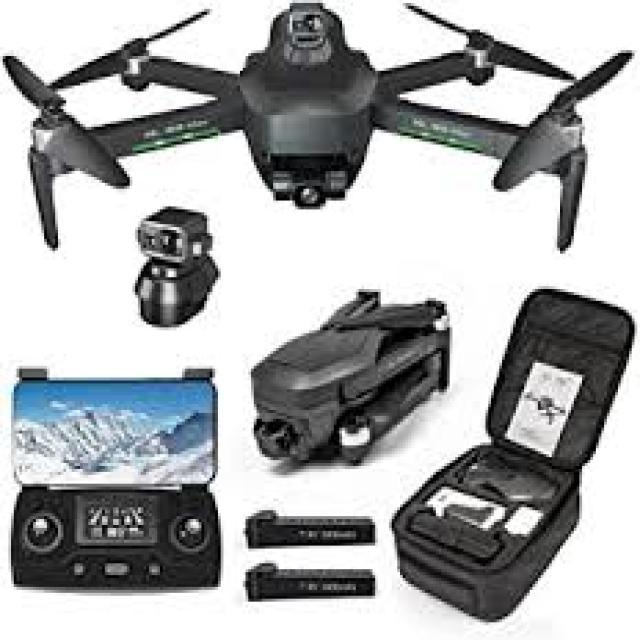drone: (0, 0, 640, 265)
